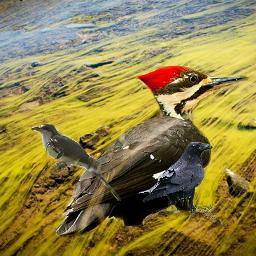Crow: (138, 142, 213, 215)
Cuckoo: (31, 124, 121, 201)
Woodpecker: (56, 66, 252, 238)
